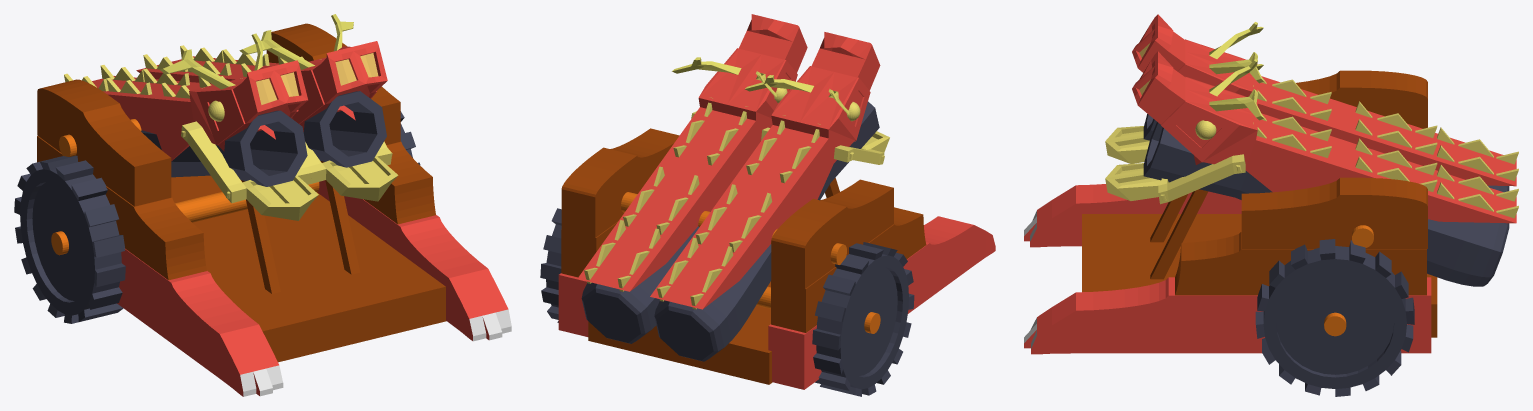
The model's file is Fire Tower Level 2.fbx.
3 renders of one model, left to right at view 1: azimuth 30°, elevation 25°; view 2: azimuth 150°, elevation 25°; view 3: azimuth 270°, elevation 25°, orthographic. The views are drawn at different scales.
Visible parts, largest first — view 1: Cube.014, Cube.015, Cylinder.004, Cube.017, Cube.008, Cube.016, Cube.011, Cube.010, Cube.013, Cube.009, Cube.012, Cylinder.005 (+6 smaller); view 2: Cube.008, Cube.011, Cube.017, Cylinder.004, Cube.015, Cube.010, Cube.016, Cube.014, Cube.013, Cube.009, Plane.008, Plane.011 (+6 smaller); view 3: Cube.015, Cylinder.004, Cube.011, Cube.017, Cube.008, Cube.014, Cube.013, Cube.016, Cube.012, Cube.019, Cube.009, Plane.008 (+7 smaller).
Boxes of the visible parts, x1,y1,x2,y2 form: Cube.014: [171, 175, 446, 362]; Cube.015: [117, 180, 511, 396]; Cylinder.004: [14, 111, 420, 323]; Cube.017: [37, 23, 400, 206]; Cube.008: [92, 33, 307, 160]; Cube.016: [37, 136, 435, 280]; Cube.011: [136, 14, 387, 131]; Cube.010: [141, 110, 307, 186]; Cube.013: [303, 91, 386, 167]; Cube.009: [181, 121, 318, 220]; Cube.012: [304, 141, 398, 201]; Cylinder.005: [51, 182, 319, 255]; Cube.008: [650, 32, 880, 309]; Cube.011: [577, 14, 807, 291]; Cube.017: [561, 128, 893, 288]; Cylinder.004: [540, 208, 914, 396]; Cube.015: [558, 216, 995, 389]; Cube.010: [654, 101, 879, 361]; Cube.016: [561, 207, 926, 332]; Cube.014: [588, 281, 772, 384]; Cube.013: [581, 211, 710, 343]; Cube.009: [834, 131, 889, 164]; Plane.008: [656, 237, 733, 309]; Plane.011: [584, 220, 660, 291]; Cube.015: [1024, 184, 1431, 354]; Cylinder.004: [1255, 239, 1414, 396]; Cube.011: [1132, 51, 1516, 223]; Cube.017: [1241, 70, 1427, 248]; Cube.008: [1132, 14, 1516, 186]; Cube.014: [1082, 214, 1437, 337]; Cube.013: [1143, 122, 1509, 286]; Cube.016: [1175, 232, 1426, 295]; Cube.012: [1105, 154, 1245, 204]; Cube.019: [1150, 189, 1208, 279]; Cube.009: [1105, 126, 1149, 163]; Plane.008: [1437, 127, 1518, 181].
Bounding box in the file's own units: 1658 × 1405 × 2275.
